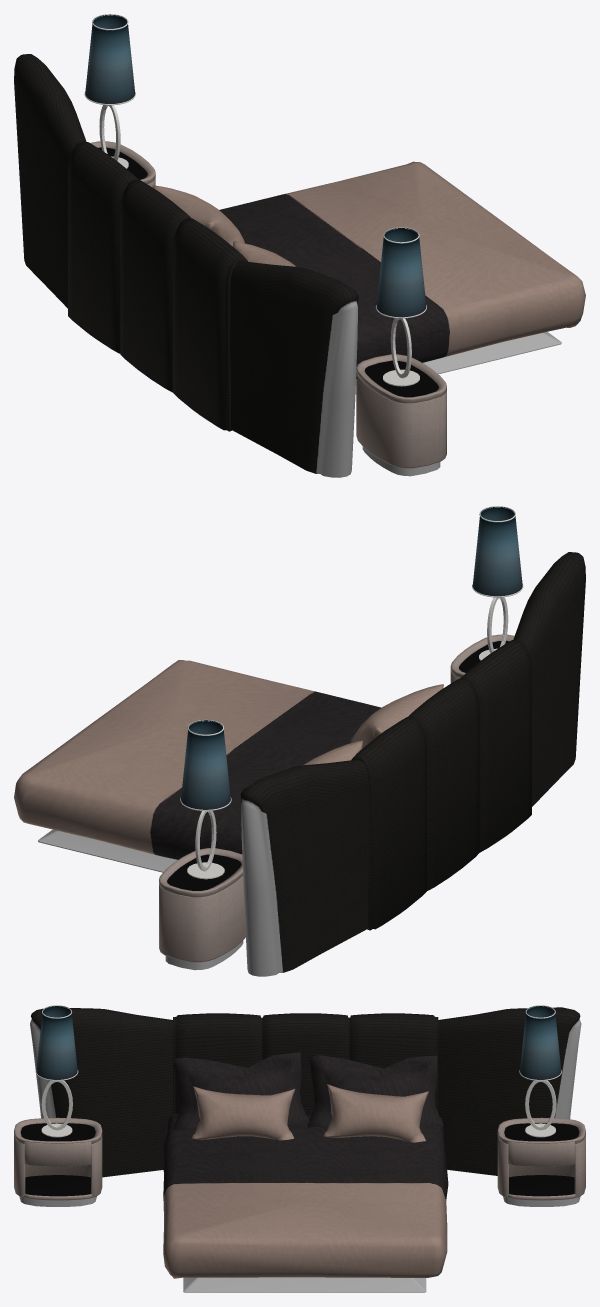
File: bed.glb
3 renders of one model, top to bottom at view 1: azimuth 30°, elevation 25°; view 2: azimuth 150°, elevation 25°; view 3: azimuth 270°, elevation 25°, orthographic. The views are drawn at different scales.
Parts seen in each view (by area): view 1: Headboard, Mattress, Nightstand_Right, Lamp_Right, Lamp_Left, Pillows_Front, Base, Nightstand_Left; view 2: Headboard, Mattress, Nightstand_Left, Lamp_Left, Lamp_Right, Pillows_Front, Base, Nightstand_Right; view 3: Headboard, Mattress, Pillows_Back, Pillows_Front, Nightstand_Left, Nightstand_Right, Base, Lamp_Left, Lamp_Right.
Part boxes in pixels (box(x1,y1,x2,y2)): Headboard: box(14, 54, 358, 477); Mattress: box(219, 161, 585, 378); Nightstand_Right: box(356, 354, 446, 476); Lamp_Right: box(375, 227, 426, 386); Lamp_Left: box(84, 14, 135, 168); Pillows_Front: box(152, 185, 295, 266); Base: box(355, 331, 561, 393); Nightstand_Left: box(90, 141, 155, 187); Headboard: box(240, 552, 585, 976); Mattress: box(14, 660, 380, 859); Nightstand_Left: box(159, 848, 245, 970); Lamp_Left: box(180, 719, 231, 879); Lamp_Right: box(472, 506, 523, 660); Pillows_Front: box(303, 684, 443, 765); Base: box(38, 829, 177, 872); Nightstand_Right: box(450, 634, 514, 683); Headboard: box(30, 1007, 581, 1177); Mattress: box(163, 1113, 448, 1278); Pillows_Back: box(172, 1052, 443, 1129); Pillows_Front: box(191, 1084, 428, 1142); Nightstand_Left: box(497, 1117, 585, 1206); Nightstand_Right: box(14, 1117, 102, 1206); Base: box(183, 1277, 426, 1292); Lamp_Left: box(519, 1005, 561, 1137); Lamp_Right: box(35, 1005, 78, 1137).
Bounding box in the file's own units: 1.86 × 1.09 × 3.04.
Materials: 1 (1 with a texture image).
